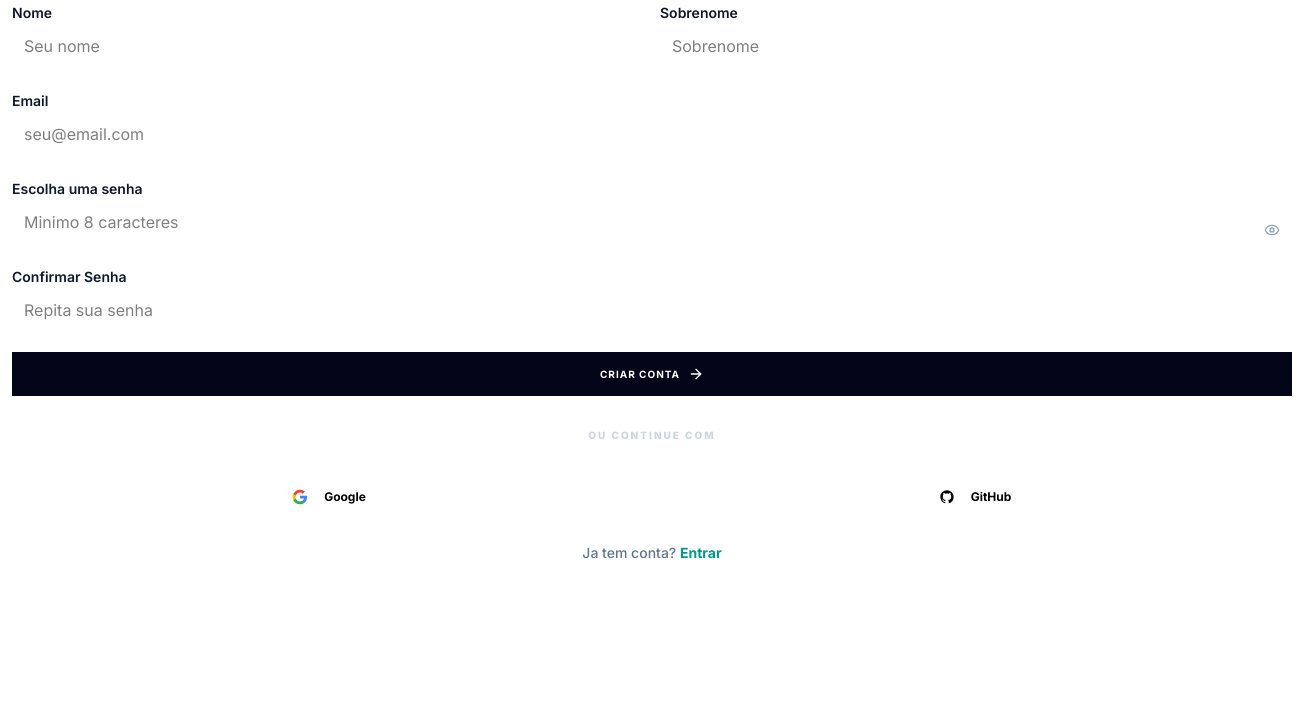
Scenario: AuthForm › shows a confirmation message after signup without a session
This screenshot has width=1304, height=720.
Type "New" into the field labelled "Nome" at (328, 46), box [12, 24, 644, 68]
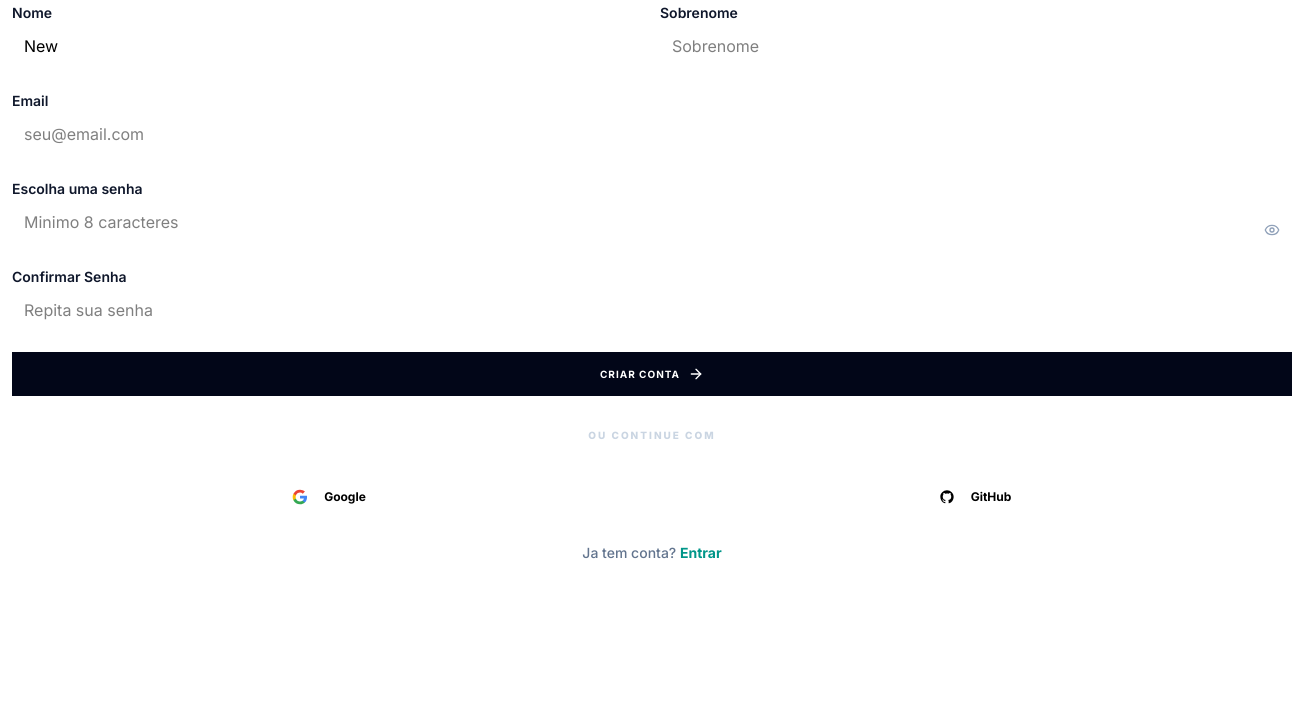
Type "User" into the field labelled "Sobrenome" at (976, 46), box [660, 24, 1292, 68]
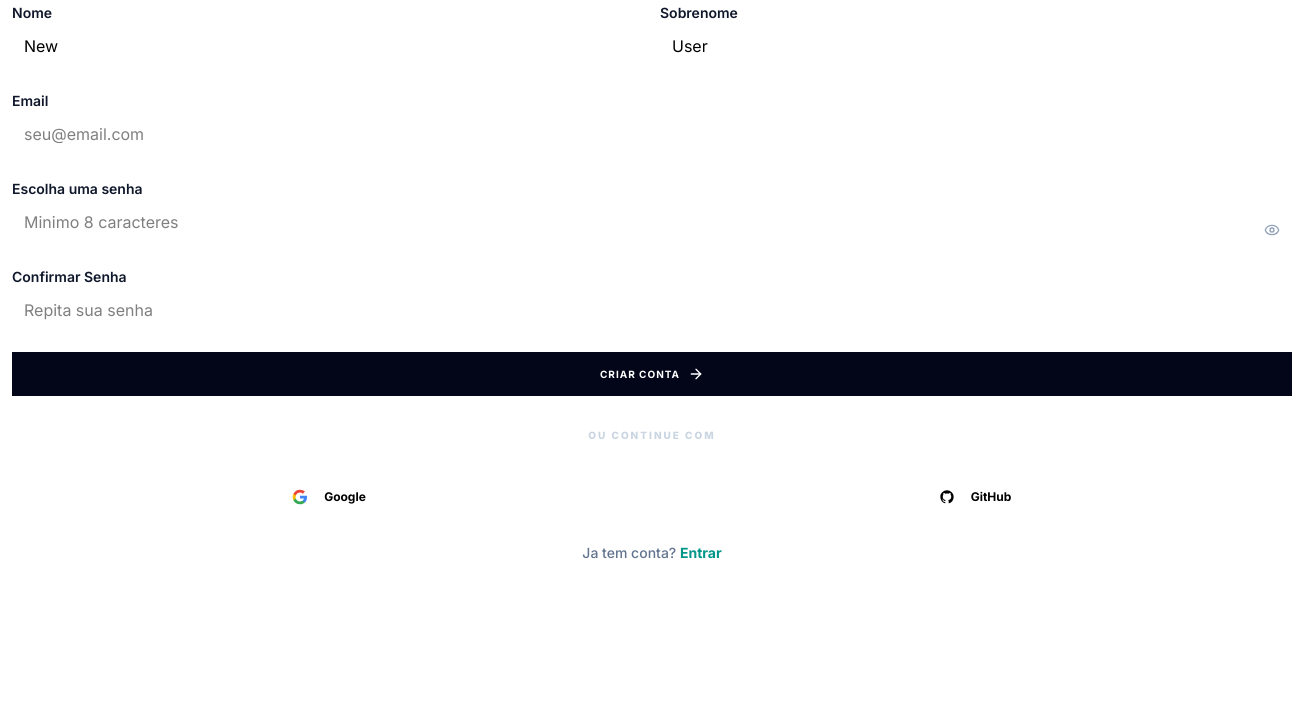
Type "new@example.com" into the field labelled "Email" at (652, 134), box [12, 112, 1292, 156]
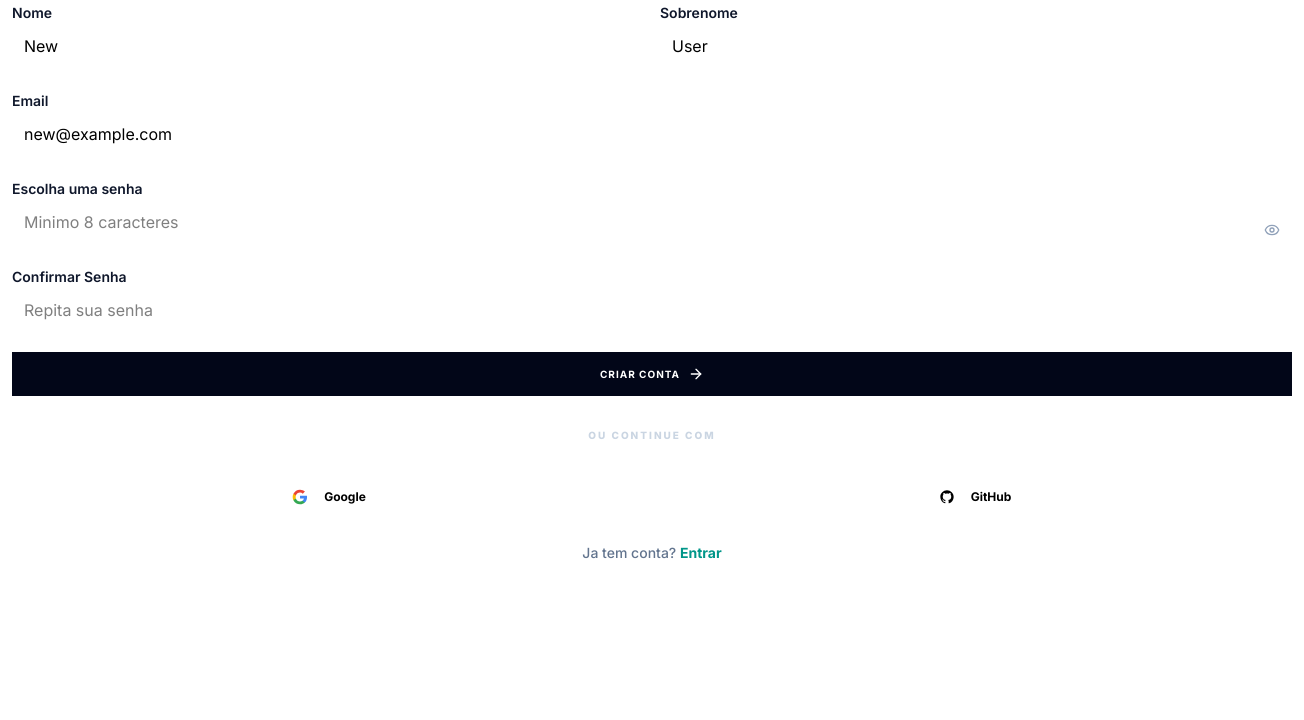
Type "Secret123!" into the password field labelled "Escolha uma senha" at (652, 222), box [12, 200, 1292, 244]
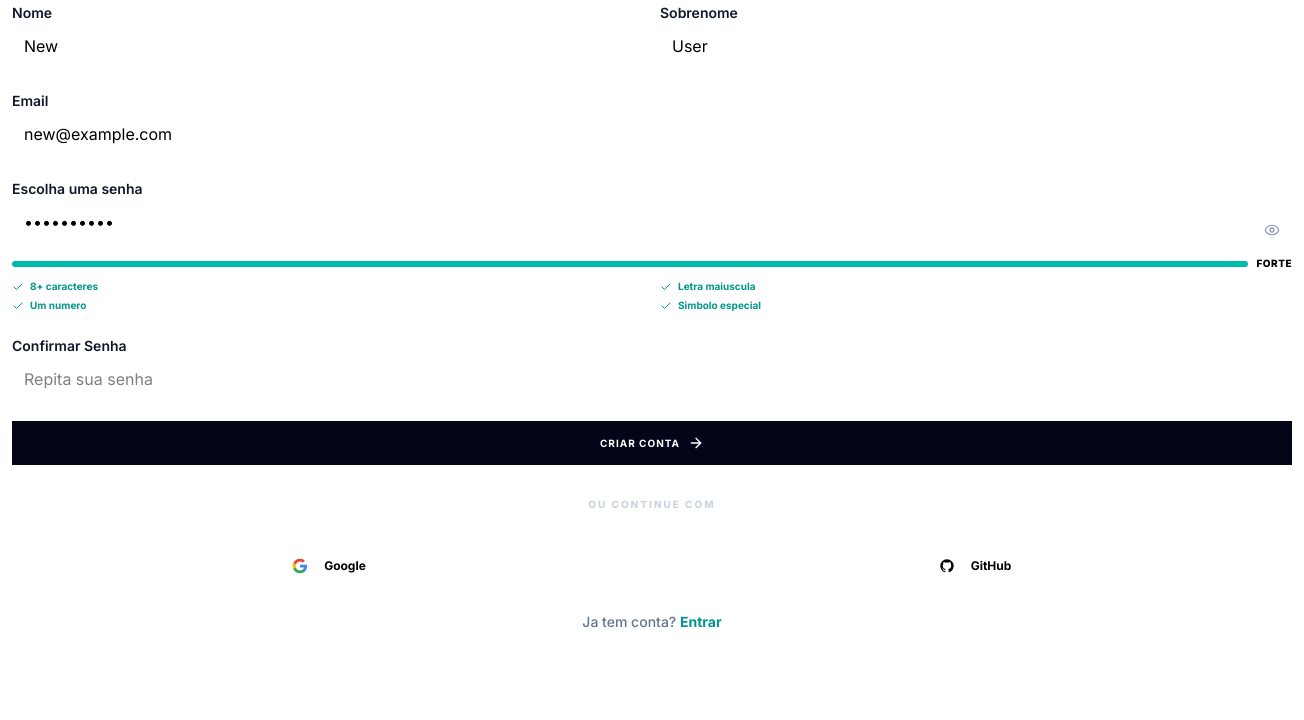
Type "Secret123!" into the password field labelled "Confirmar Senha" at (652, 379), box [12, 357, 1292, 401]
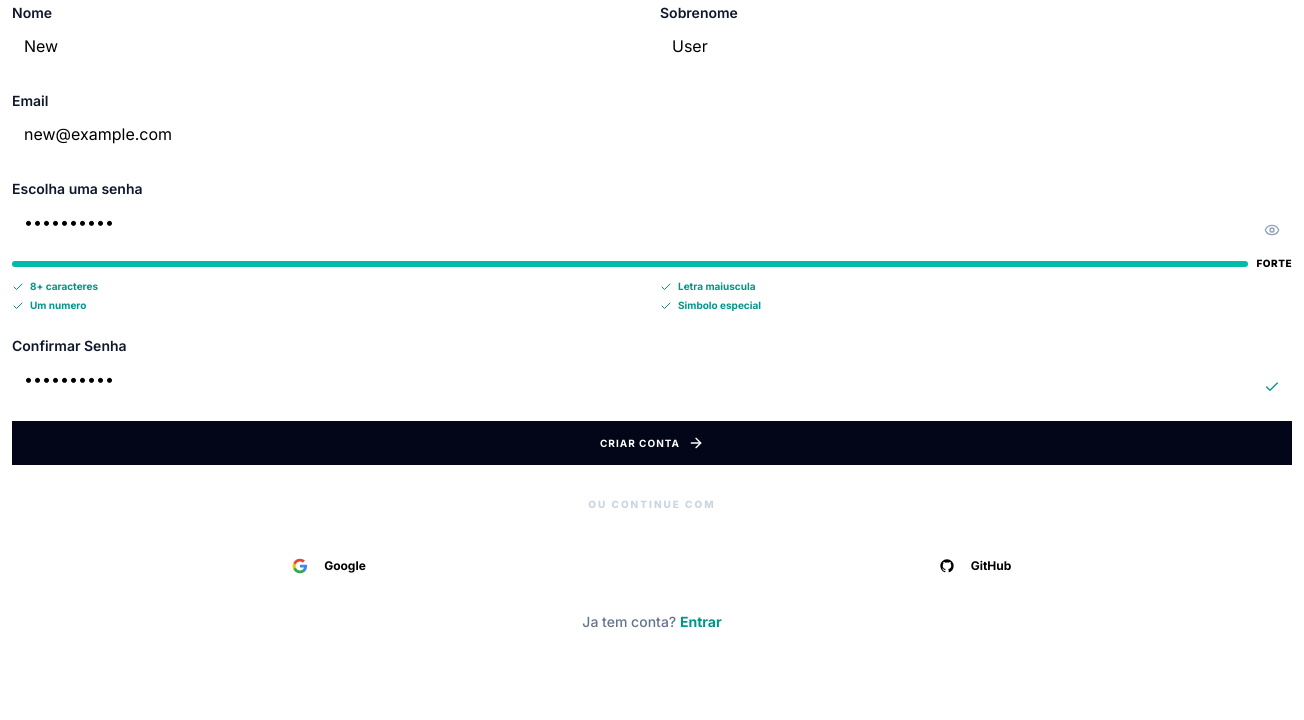
Submit the form named "criar conta"
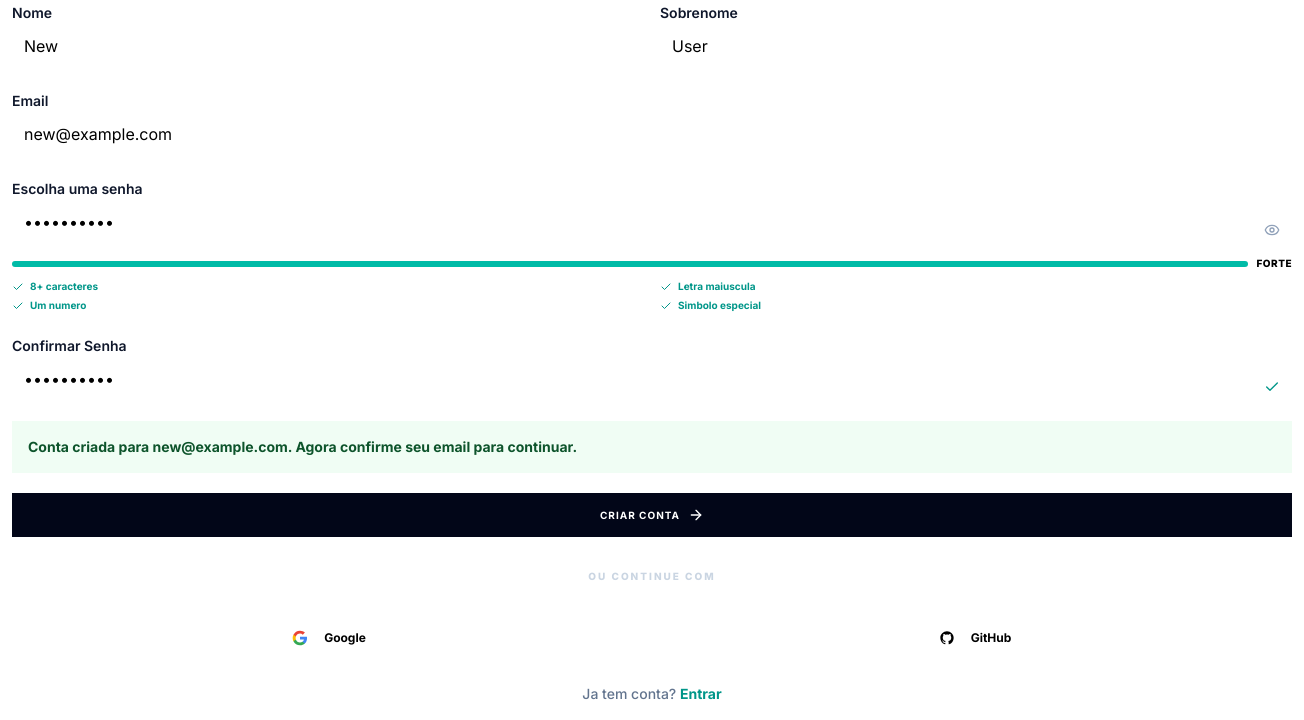
Result: the text "Conta criada para new@example.com. Agora confirme seu email para continuar." is shown at [12, 421, 1292, 473]
